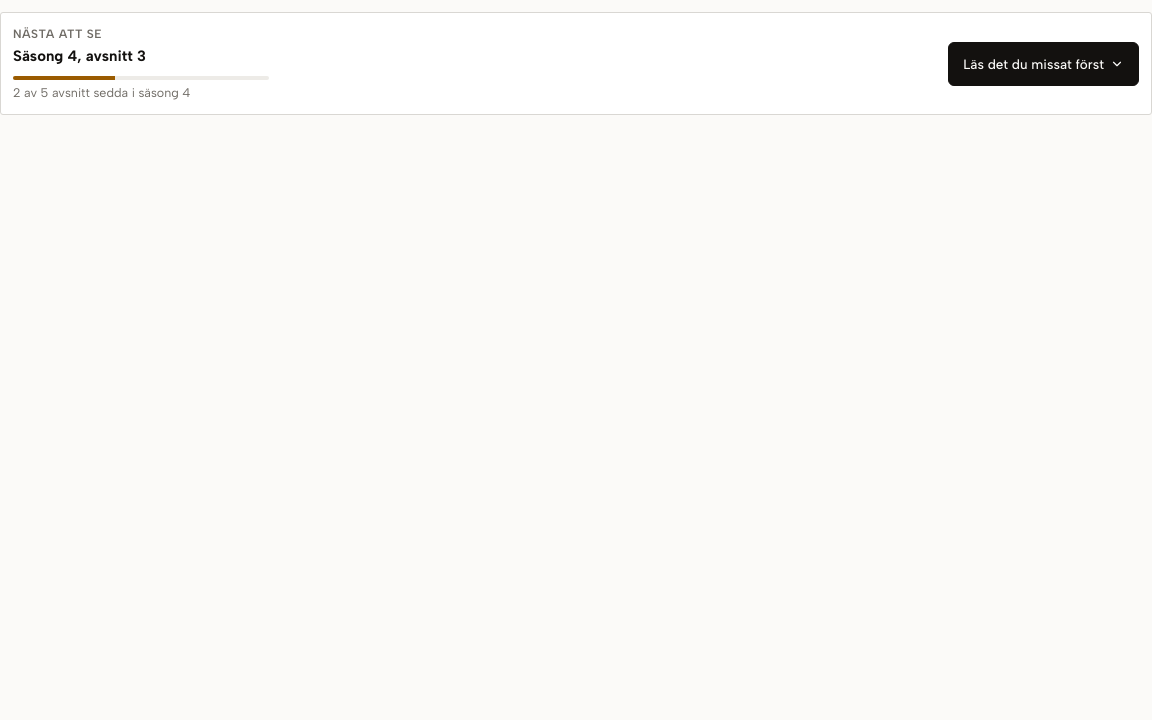
Test: RecapPanel timeline › expands each season INDEPENDENTLY — opening one does not open the others
The image size is (1152, 720).
Step 1. Click the button "Läs det du missat först" → point(1044, 64), box [948,42,1139,86]
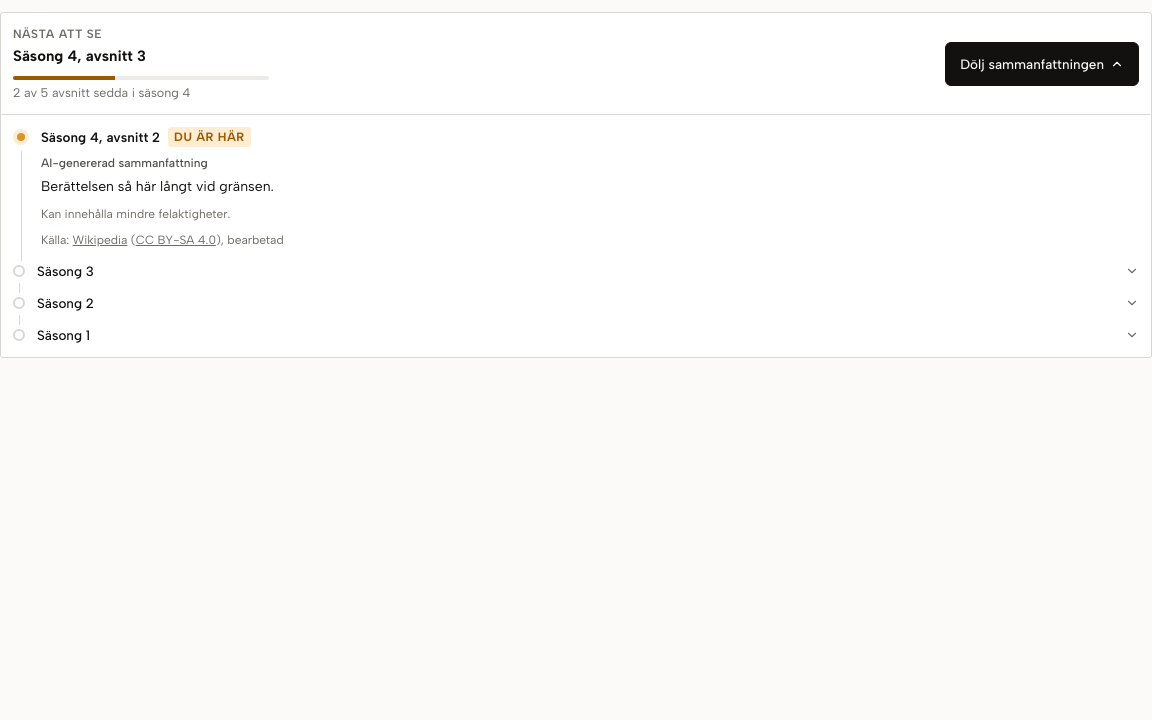
Step 2. Click the button "Säsong 2" → point(61, 303), box [37,293,1139,313]
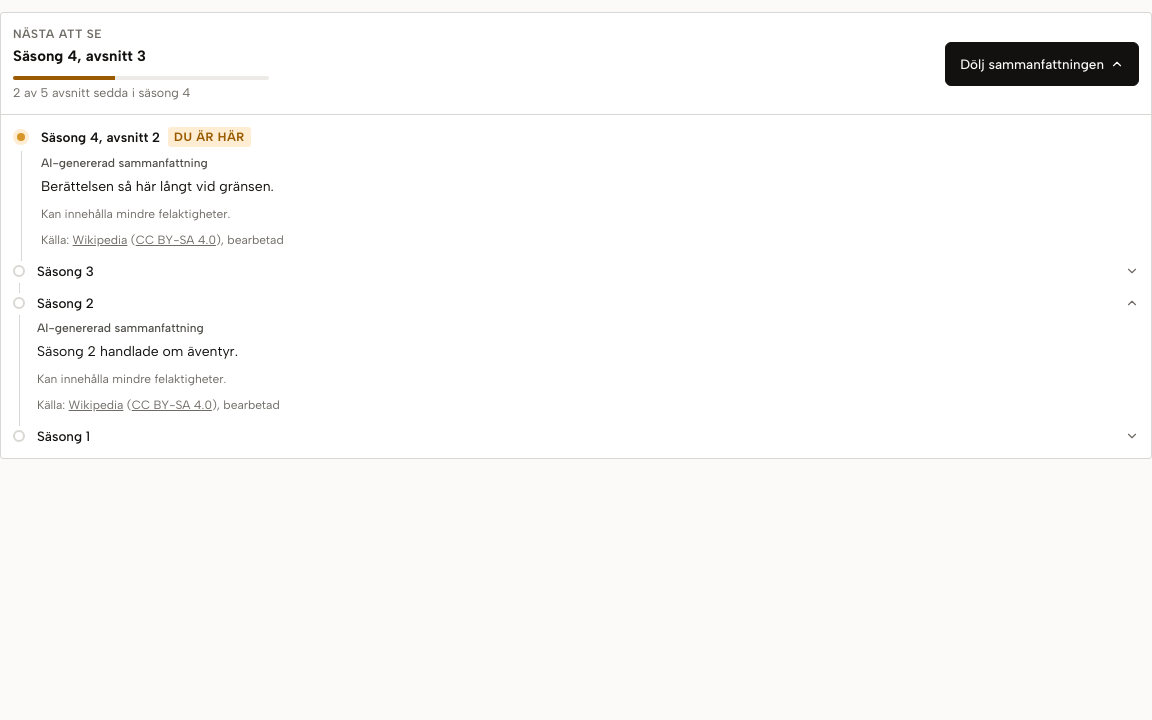
Check: the text "Säsong 1 handlade om äventyr." is not shown
Check: the text "Säsong 2 handlade om äventyr." is shown, box [37,343,238,360]
Step 3. Click the button "Säsong 1" → point(61, 436), box [37,426,1139,446]
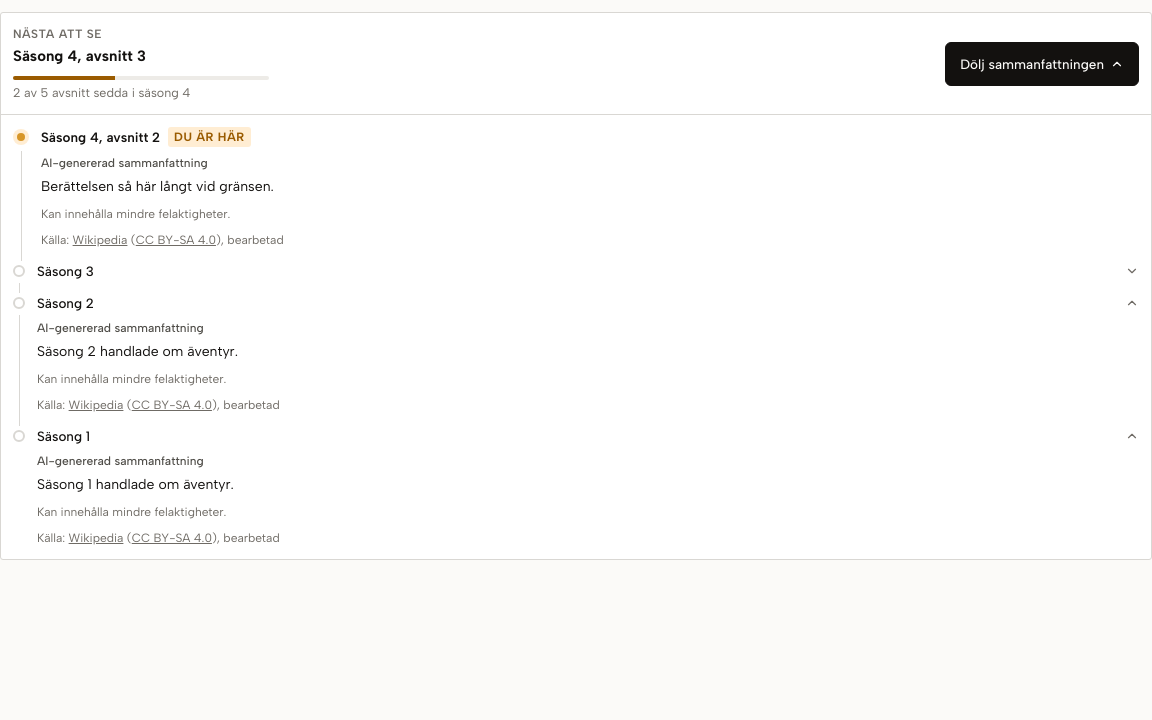
Check: the text "Säsong 2 handlade om äventyr." is shown, box [37,343,238,360]
Check: the text "Säsong 1 handlade om äventyr." is shown, box [37,476,234,493]
Step 4. Click the button "Säsong 2" → point(61, 303), box [37,293,1139,313]
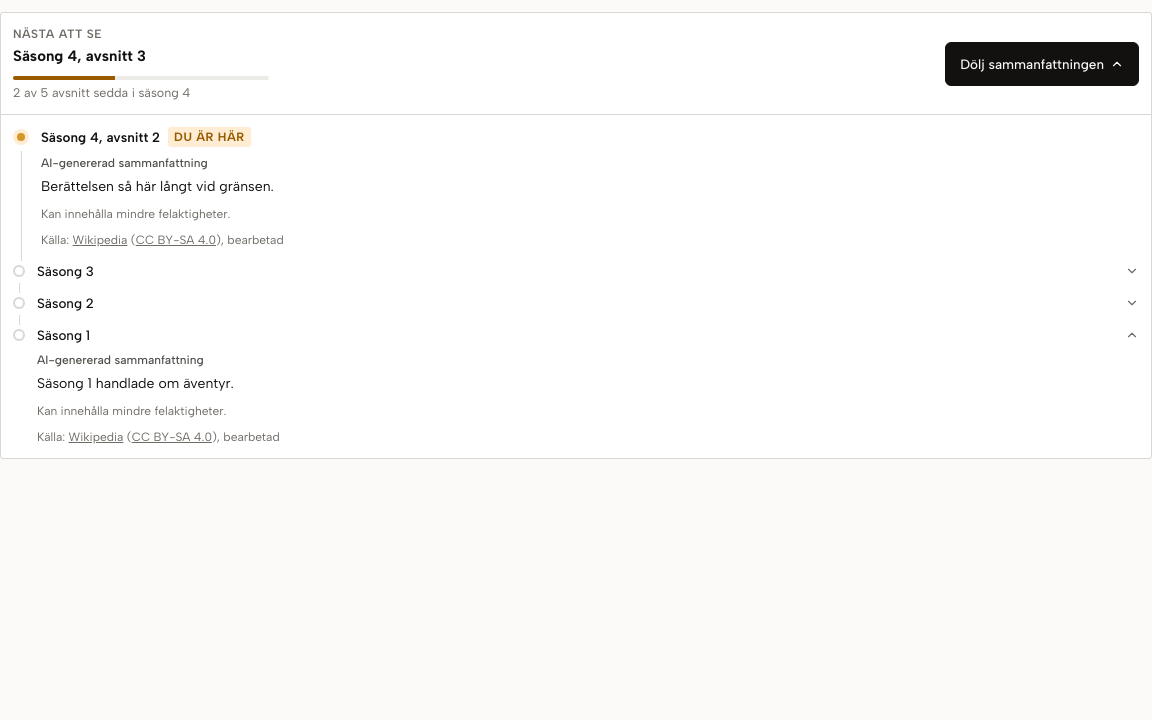
Check: the text "Säsong 1 handlade om äventyr." is shown, box [37,375,234,392]
Check: the text "Säsong 2 handlade om äventyr." is gone
